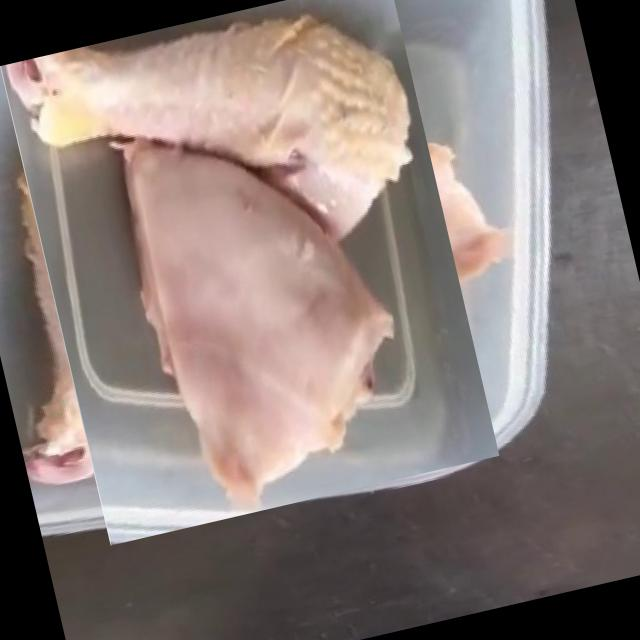chicken: (0, 0, 523, 520)
